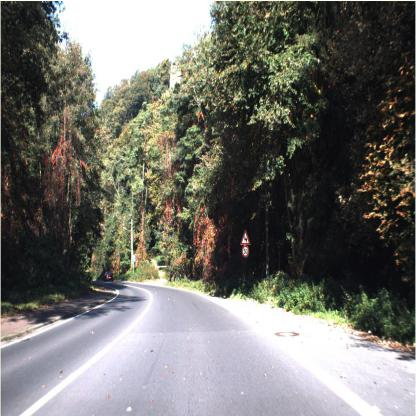danger: (238, 226, 253, 247)
prohibitory: (239, 244, 252, 261)
